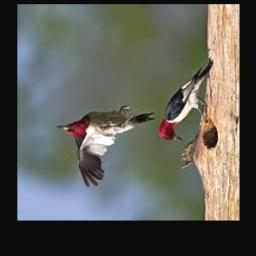Woodpecker: (56, 106, 155, 188), (157, 59, 213, 142)
